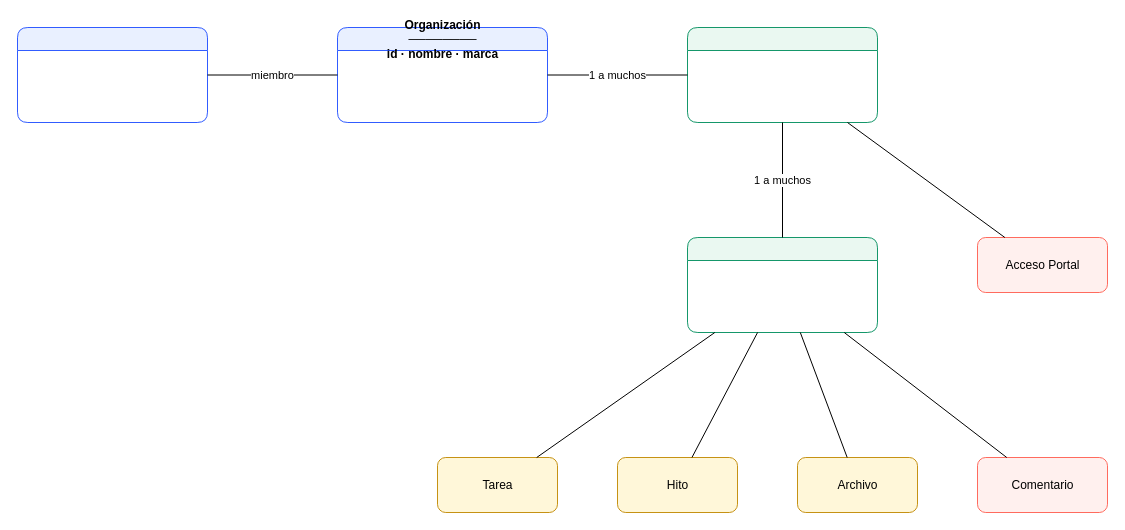
Some shapes in this 1125 by 530 pixel diagram are drawn without their labels. Here are the shapes that lost their labels. From the top down, the box of each, then its label:
(16, 26, 208, 122): Usuario ──────── id · correo · nombre
(686, 26, 878, 122): Cliente ──────── id · nombre · estado
(686, 236, 878, 332): Proyecto ──────── id · nombre · estado
